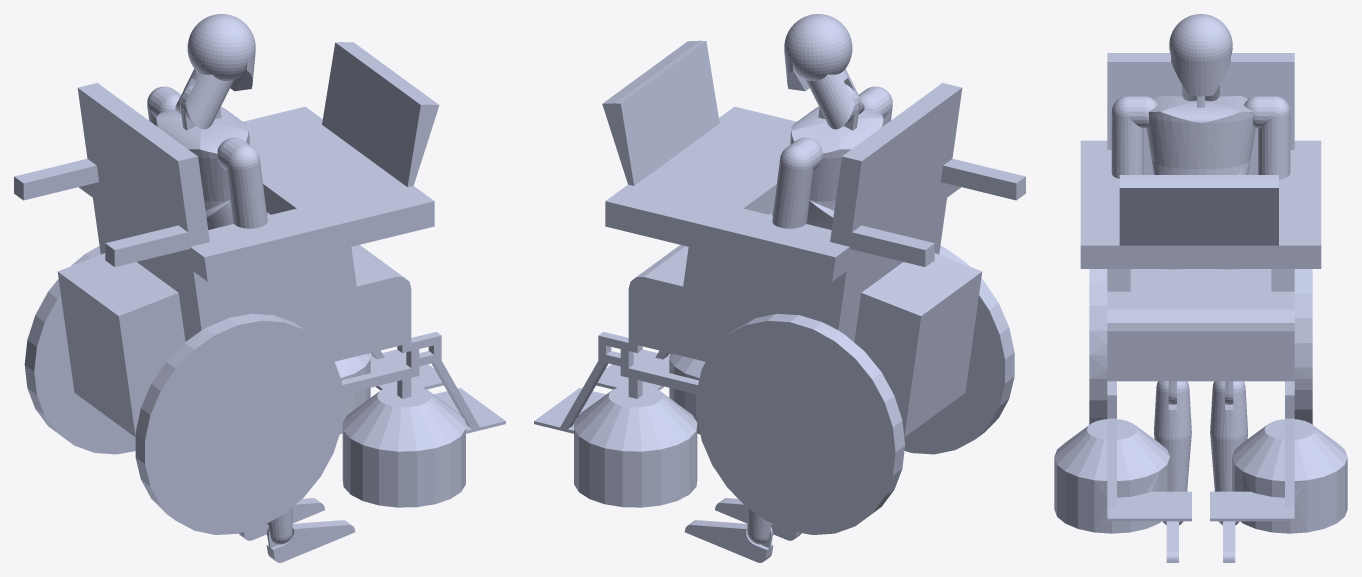
File: wheelchair_henry_rounded.dae
The picture shows the model from 3 angles, left to right: view 1: azimuth 30°, elevation 25°; view 2: azimuth 150°, elevation 25°; view 3: azimuth 270°, elevation 25°; orthographic projection. The views are drawn at different scales.
Visible parts, largest first — view 1: wheelchair/base_link, wheelchair/head_link, wheelchair/upper_body_link, wheelchair/arm_right_link, wheelchair/foot_right_link, wheelchair/neck_rotation, wheelchair/arm_left_link, wheelchair/foot_left_link, wheelchair/calf_right_link; view 2: wheelchair/base_link, wheelchair/head_link, wheelchair/upper_body_link, wheelchair/arm_left_link, wheelchair/foot_left_link, wheelchair/neck_rotation, wheelchair/arm_right_link, wheelchair/foot_right_link, wheelchair/calf_left_link; view 3: wheelchair/base_link, wheelchair/upper_body_link, wheelchair/head_link, wheelchair/calf_left_link, wheelchair/calf_right_link, wheelchair/arm_left_link, wheelchair/arm_right_link, wheelchair/foot_left_link, wheelchair/foot_right_link.
Boxes of the visible parts, x1,y1,x2,y2 form: wheelchair/base_link: (14,42,505,534); wheelchair/head_link: (187,14,255,91); wheelchair/upper_body_link: (156,84,249,210); wheelchair/arm_right_link: (217,137,267,228); wheelchair/foot_right_link: (266,520,355,562); wheelchair/neck_rotation: (175,69,233,129); wheelchair/arm_left_link: (147,86,180,126); wheelchair/foot_left_link: (239,498,324,540); wheelchair/calf_right_link: (265,507,292,544); wheelchair/base_link: (534,40,1025,534); wheelchair/head_link: (784,14,852,91); wheelchair/upper_body_link: (790,84,883,210); wheelchair/arm_left_link: (772,137,822,228); wheelchair/foot_left_link: (684,520,773,562); wheelchair/neck_rotation: (806,69,864,129); wheelchair/arm_right_link: (859,86,892,126); wheelchair/foot_right_link: (715,498,801,540); wheelchair/calf_left_link: (747,507,774,544); wheelchair/base_link: (1054,53,1347,533); wheelchair/upper_body_link: (1146,96,1255,174); wheelchair/head_link: (1169,14,1232,96); wheelchair/calf_left_link: (1210,381,1247,525); wheelchair/calf_right_link: (1154,381,1191,525); wheelchair/arm_left_link: (1244,96,1290,179); wheelchair/arm_right_link: (1111,96,1157,178); wheelchair/foot_left_link: (1223,521,1235,562); wheelchair/foot_right_link: (1166,521,1178,562).
Bounding box in the file's own units: 1.29 × 0.9014 × 1.71.
